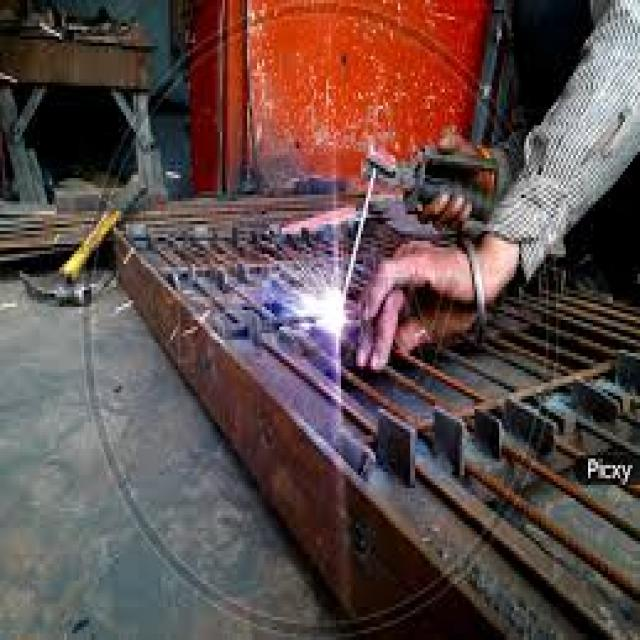welding: (319, 287, 348, 334)
